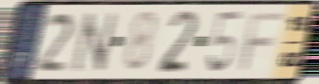2: (155, 9, 199, 76), (35, 10, 76, 74)
5: (206, 10, 244, 75)
8: (121, 8, 159, 75)
F: (237, 10, 287, 73)
N: (70, 10, 120, 75)
